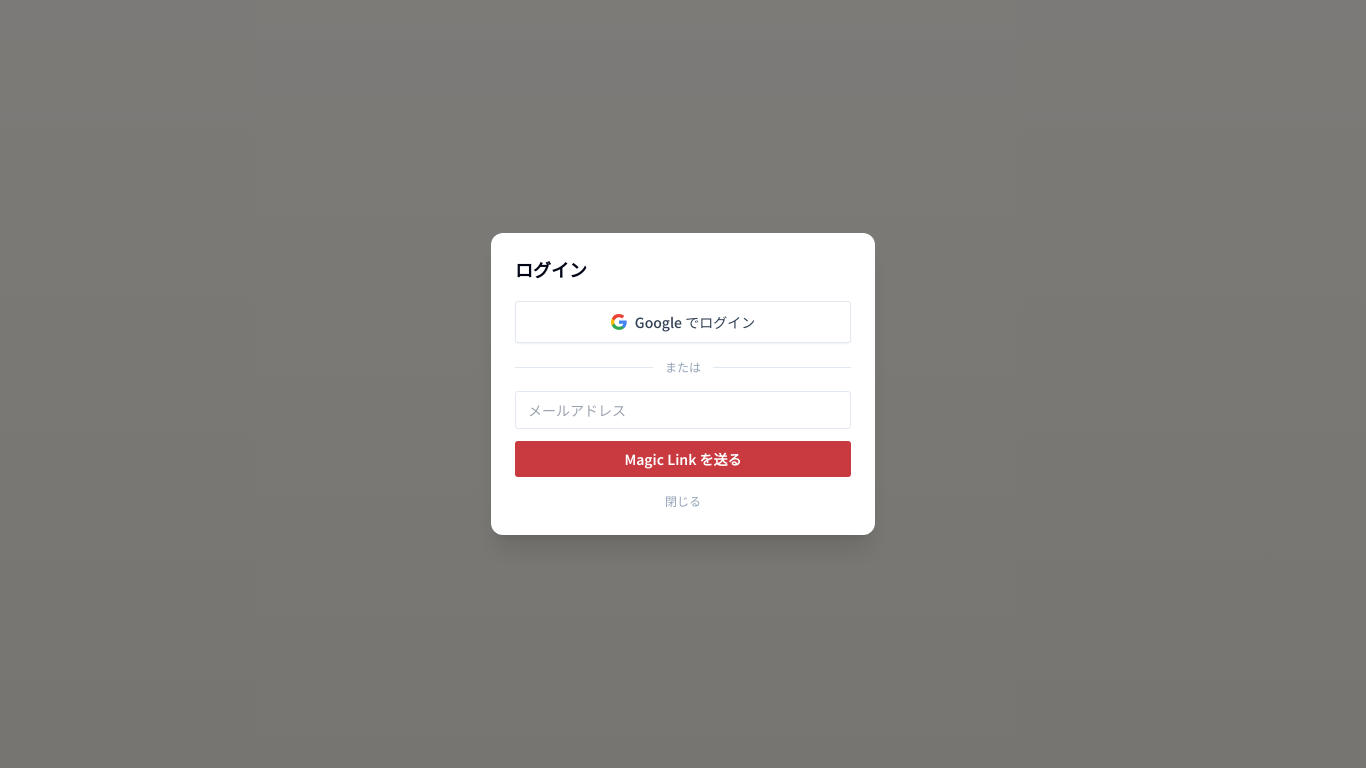
AuthModal › shows a mapped error when Google login fails
The width and height of the screenshot is (1366, 768).
Click the button "Google でログイン".
click(683, 322)  # box left=515, top=301, right=851, bottom=343
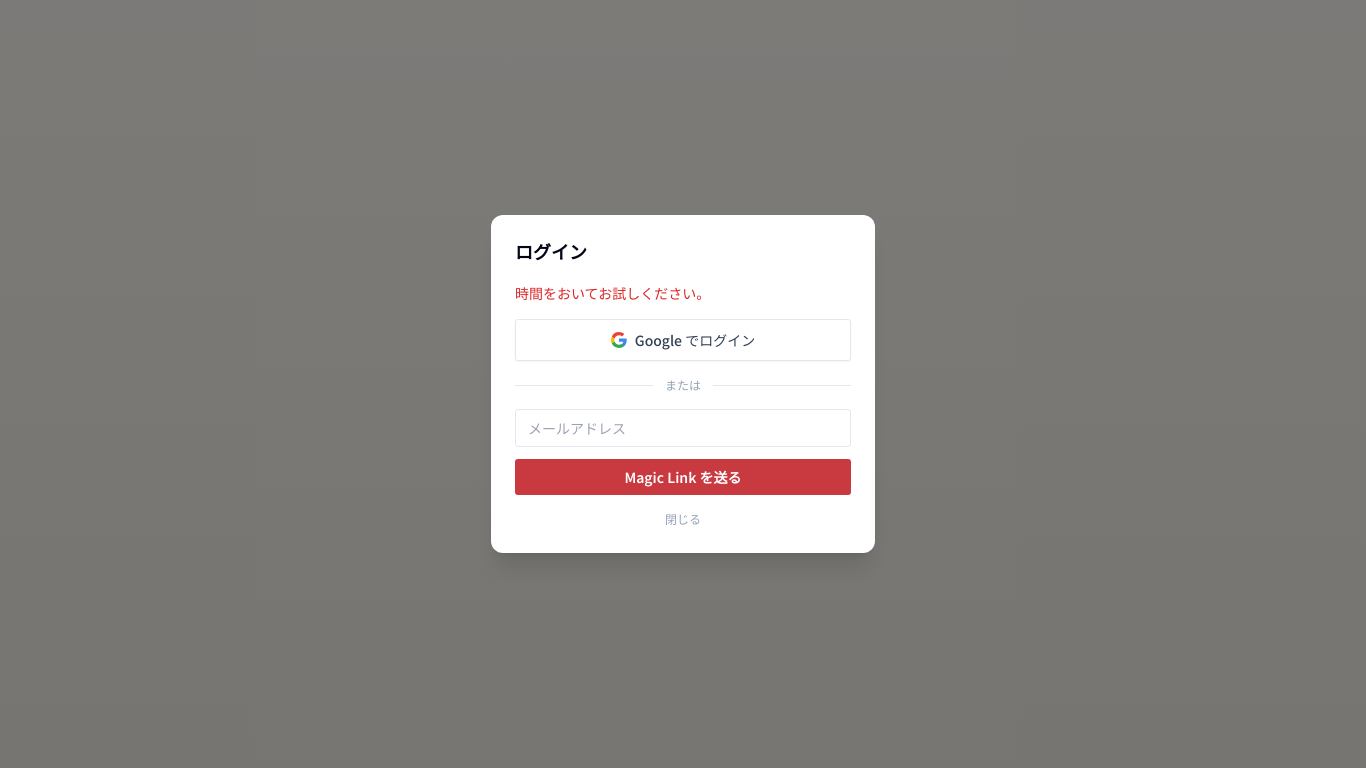
Expected: the text "時間をおいてお試しください。" is shown, left=515, top=283, right=710, bottom=303
